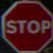Stop: (5, 6, 52, 44)
